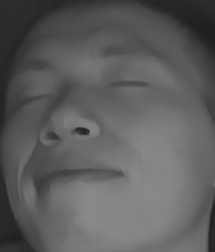blink: (105, 72, 150, 99), (10, 87, 54, 114)
mouth: (28, 153, 132, 199)
